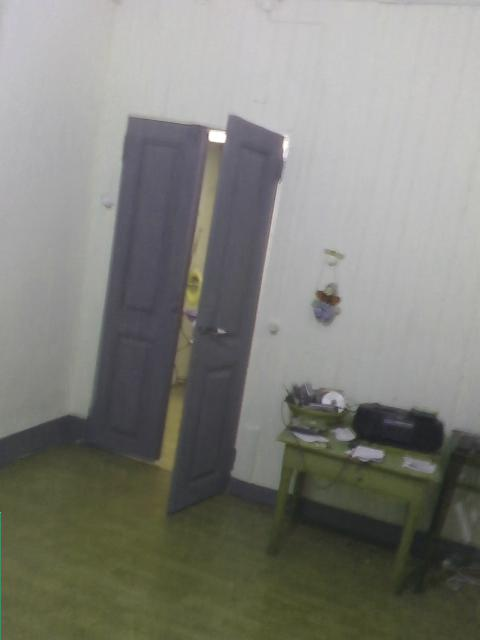semi_door: (81, 110, 287, 518)
